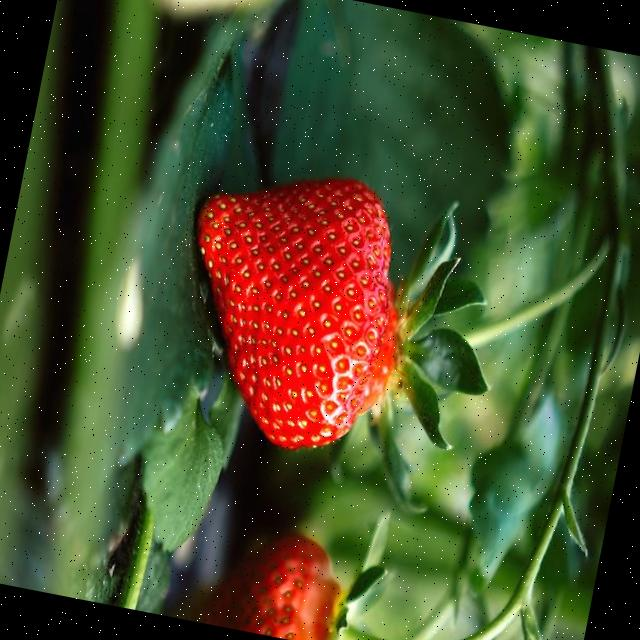strawberry: (197, 179, 397, 449), (202, 534, 341, 640)
